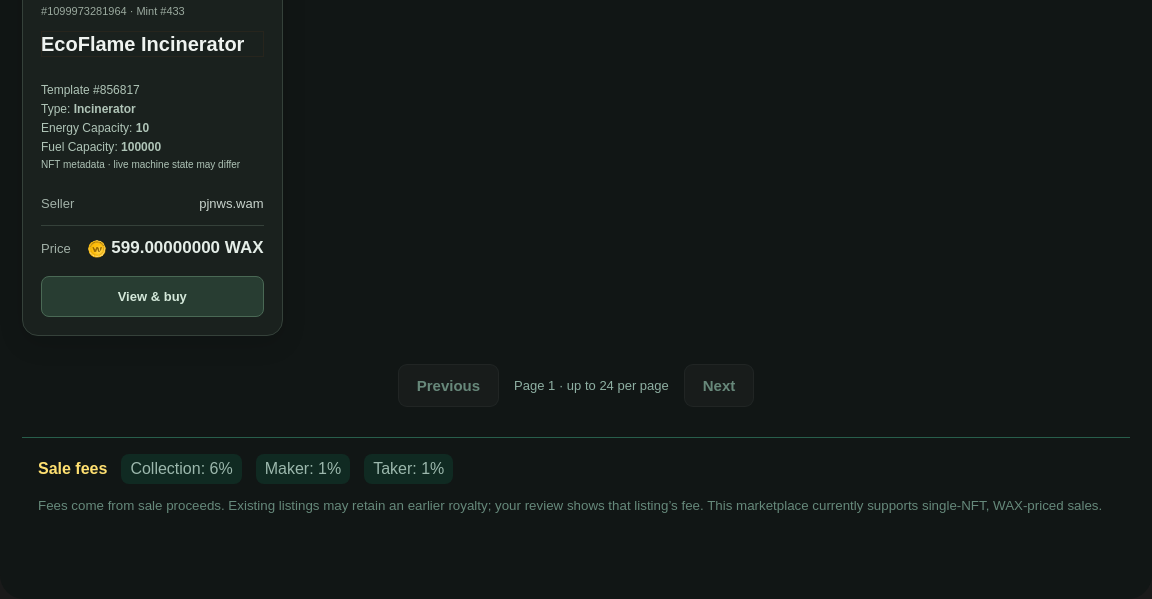
Scenario: buyers can compare prices without submitting a transaction
(page scrolled)
Click the button "View & buy" at (152, 297), box [41,276,264,317]
(page scrolled)
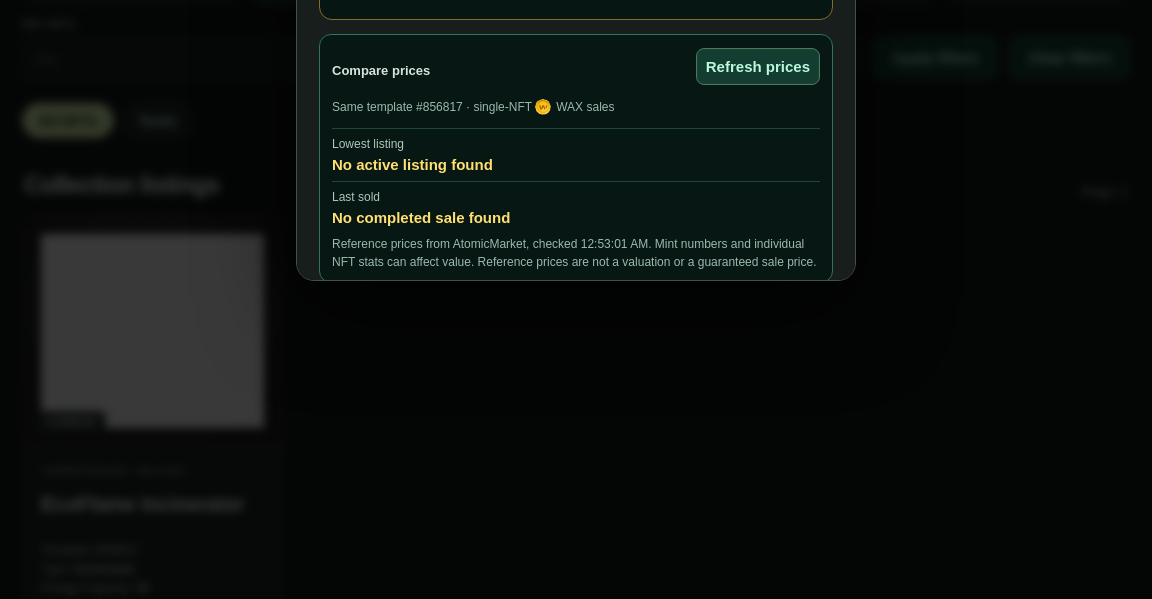
expect the heading "Compare prices" is shown: met, box [332,62,430,78]
